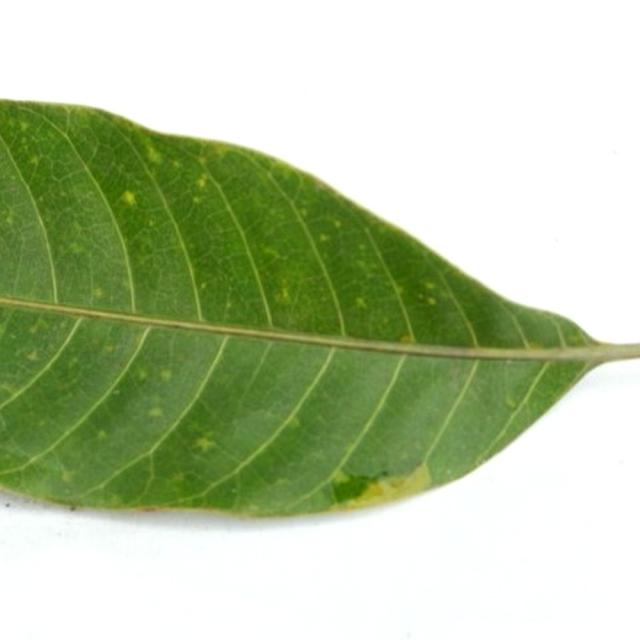Mango: (0, 100, 610, 515)
Powdery_Mildew: (189, 137, 245, 161), (122, 192, 142, 209), (194, 436, 215, 452), (274, 287, 292, 304), (146, 144, 162, 163), (330, 469, 349, 485), (29, 318, 48, 333), (263, 246, 281, 259), (287, 414, 302, 429), (60, 468, 74, 483), (2, 382, 19, 394), (526, 340, 546, 350), (195, 175, 208, 189), (68, 242, 83, 254), (108, 493, 123, 505), (148, 407, 164, 418), (92, 287, 105, 299), (159, 369, 172, 381), (136, 368, 148, 381), (355, 297, 367, 309), (506, 396, 518, 408), (172, 472, 185, 483), (355, 259, 368, 270), (399, 333, 413, 343), (567, 334, 581, 344), (123, 278, 133, 292), (247, 502, 261, 512), (26, 350, 38, 361), (399, 450, 410, 461), (424, 281, 437, 290), (275, 477, 289, 485), (96, 429, 107, 439), (29, 156, 40, 166), (4, 214, 14, 225), (198, 155, 208, 166), (19, 121, 29, 131), (104, 345, 115, 354), (426, 296, 436, 305), (319, 233, 329, 242), (299, 208, 308, 218), (172, 160, 182, 169), (395, 284, 404, 294), (358, 243, 367, 252), (225, 300, 233, 310), (193, 196, 202, 204), (333, 220, 342, 228), (200, 282, 207, 291), (148, 220, 155, 227), (69, 505, 76, 511)
